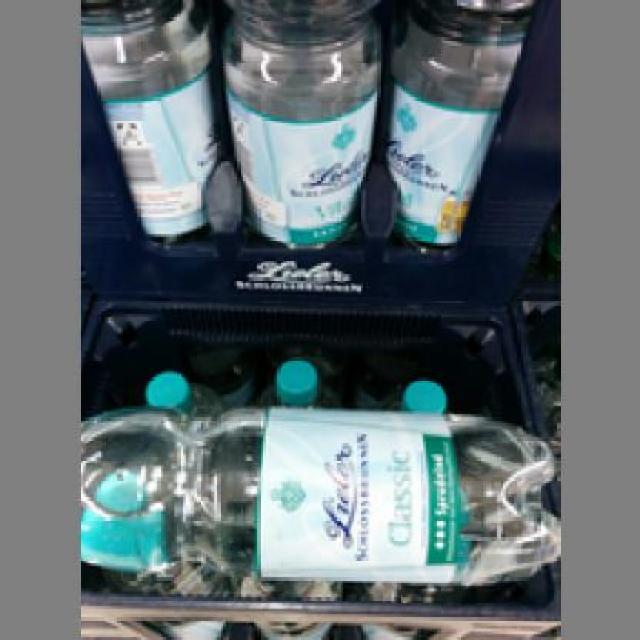Water: (77, 406, 557, 586), (217, 0, 377, 243), (386, 0, 526, 246), (77, 0, 217, 240)
